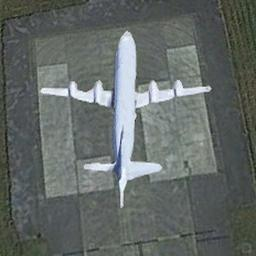Airplane: (39, 29, 212, 208)
